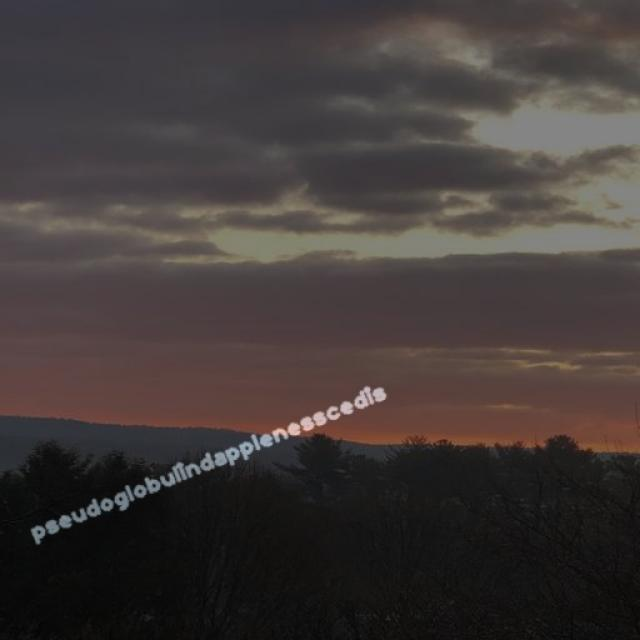watermark: (28, 380, 388, 543)
